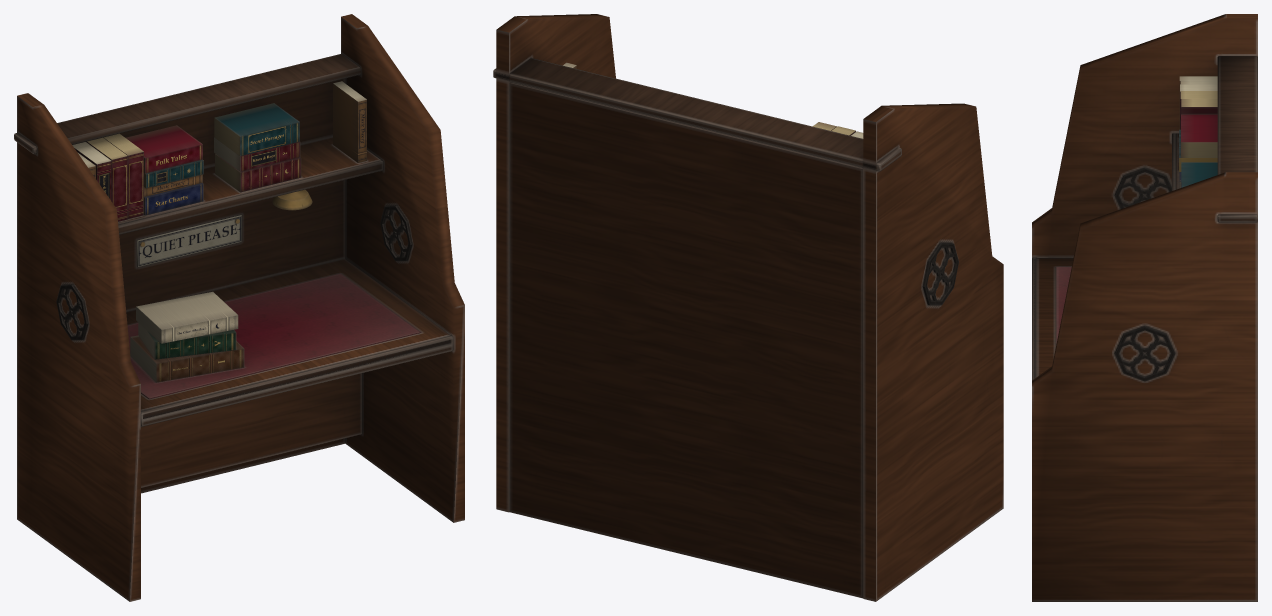
File: StudyCarrel.fbx
3 renders of one model, left to right at view 1: azimuth 30°, elevation 25°; view 2: azimuth 150°, elevation 25°; view 3: azimuth 270°, elevation 25°, orthographic. The views are drawn at different scales.
Parts seen in each view (by area): view 1: StudyCarrel_Main; view 2: StudyCarrel_Main; view 3: StudyCarrel_Main.
Boxes of the visible parts, bbox=[...] form: StudyCarrel_Main: bbox=[14, 14, 464, 601]; StudyCarrel_Main: bbox=[493, 14, 1003, 601]; StudyCarrel_Main: bbox=[1032, 14, 1257, 601].
Size of the model in its own units: 490 by 580 by 280.
